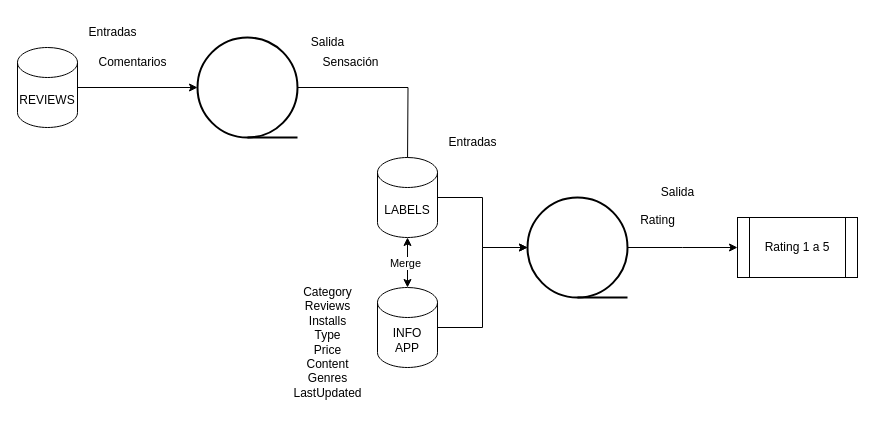
Image size: 875x424. Some labels were removed from this diagram. The centre of each missing label's shape, as x and y in pixels:
"KNN" goes at (247,87).
"Regresión" goes at (577,247).
